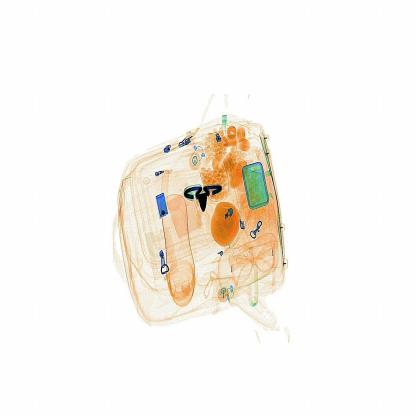gun: (176, 174, 230, 208)
